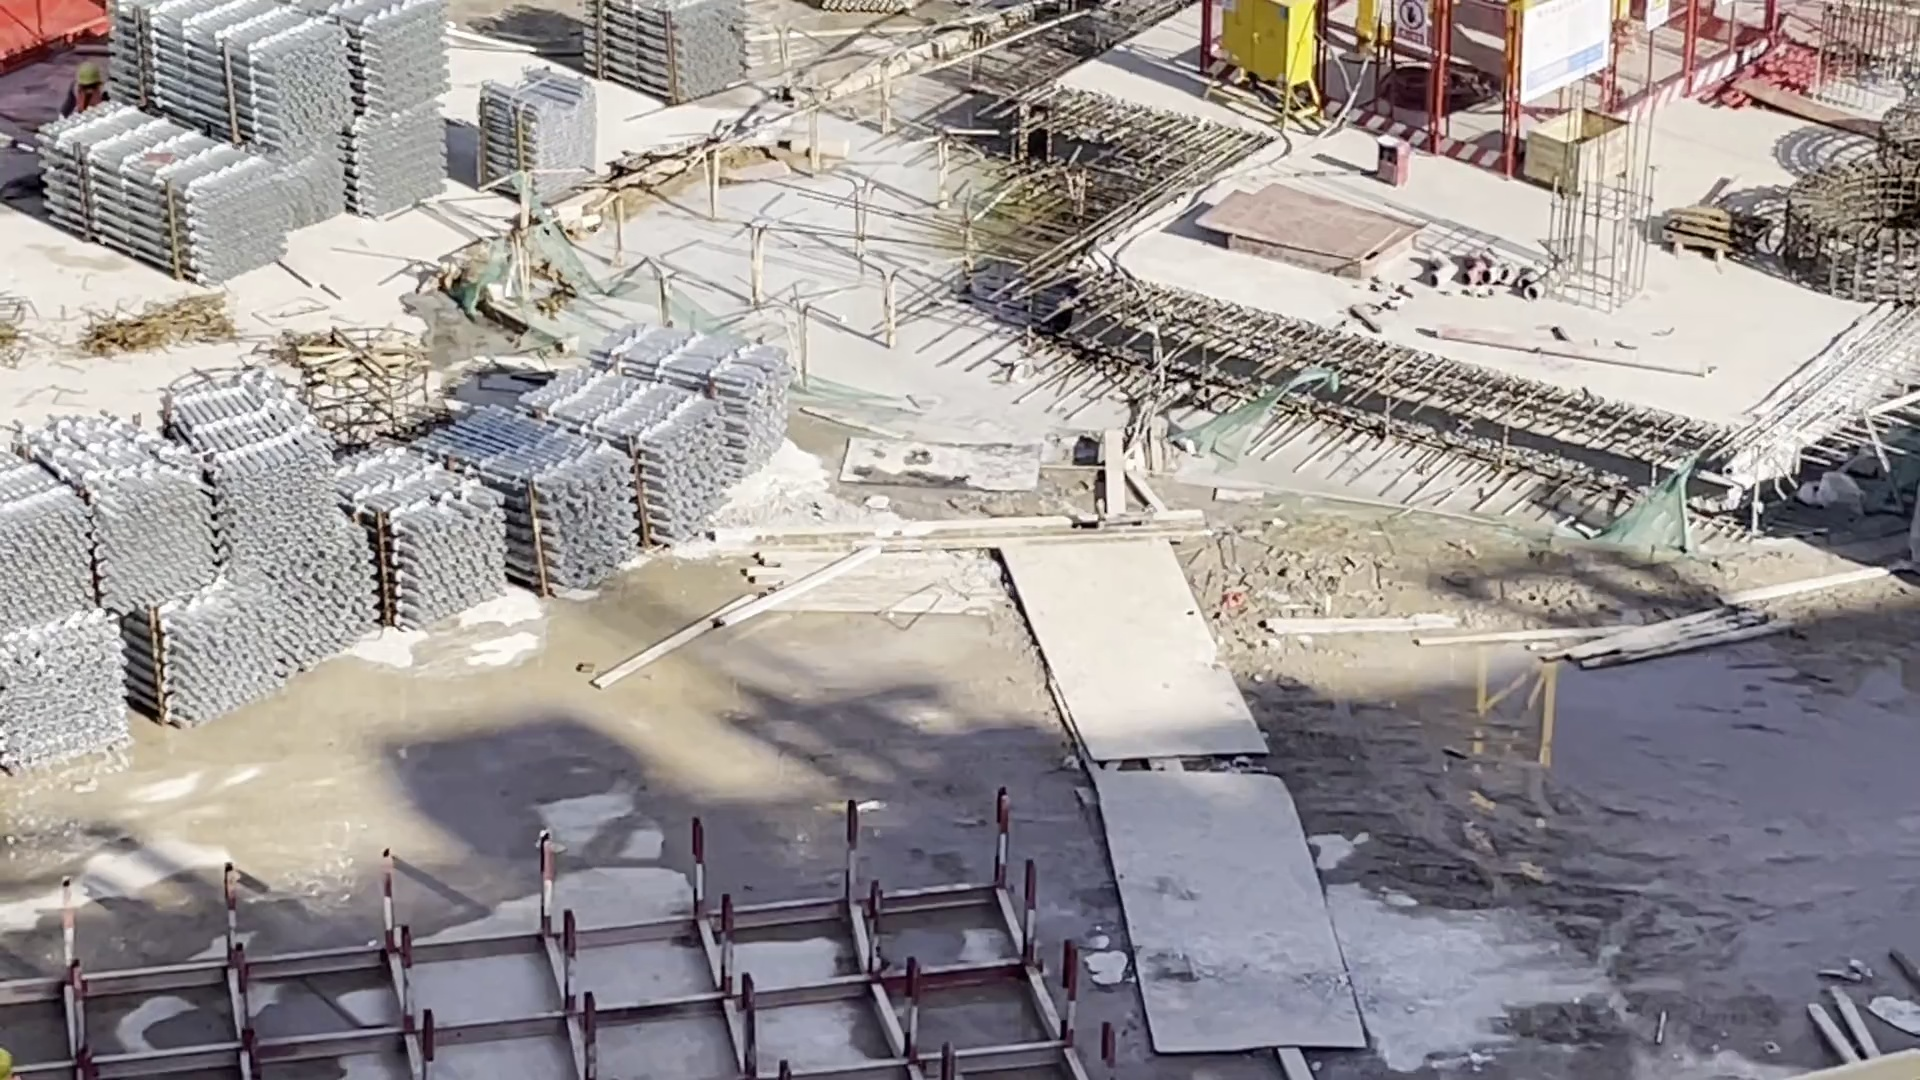board: (1197, 191, 1432, 280)
ebox: (1195, 1, 1323, 131)
scaffold: (1, 322, 793, 775), (40, 1, 448, 277), (588, 1, 750, 107), (475, 75, 597, 203)
